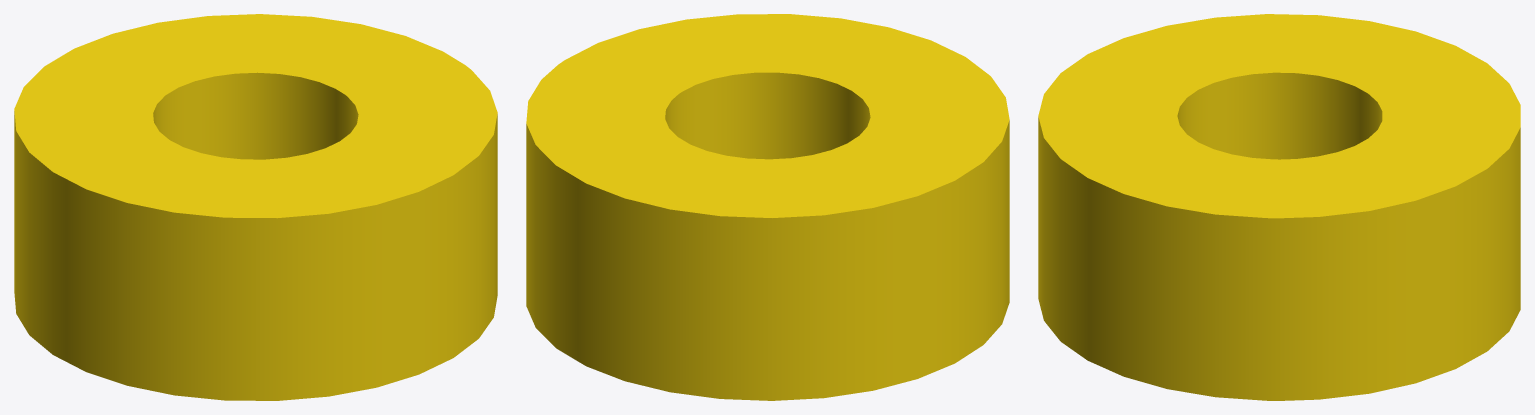
3 views of the same model, side by side, from view 1: azimuth 30°, elevation 25°; view 2: azimuth 150°, elevation 25°; view 3: azimuth 270°, elevation 25° (orthographic).
Visible parts, largest first — view 1: mesh76806, mesh76807, mesh76804; view 2: mesh76806, mesh76807, mesh76804; view 3: mesh76806, mesh76807, mesh76804.
Boxes of the visible parts, x1=… form: mesh76806: x1=14, y1=111, x2=497, y2=400; mesh76807: x1=14, y1=14, x2=497, y2=218; mesh76804: x1=153, y1=72, x2=358, y2=159; mesh76806: x1=526, y1=120, x2=1009, y2=400; mesh76807: x1=526, y1=14, x2=1009, y2=217; mesh76804: x1=665, y1=72, x2=870, y2=159; mesh76806: x1=1038, y1=117, x2=1520, y2=400; mesh76807: x1=1038, y1=14, x2=1520, y2=218; mesh76804: x1=1177, y1=72, x2=1382, y2=159.
Bounding box in the file's own units: 0.0152 × 0.00635 × 0.0152.
